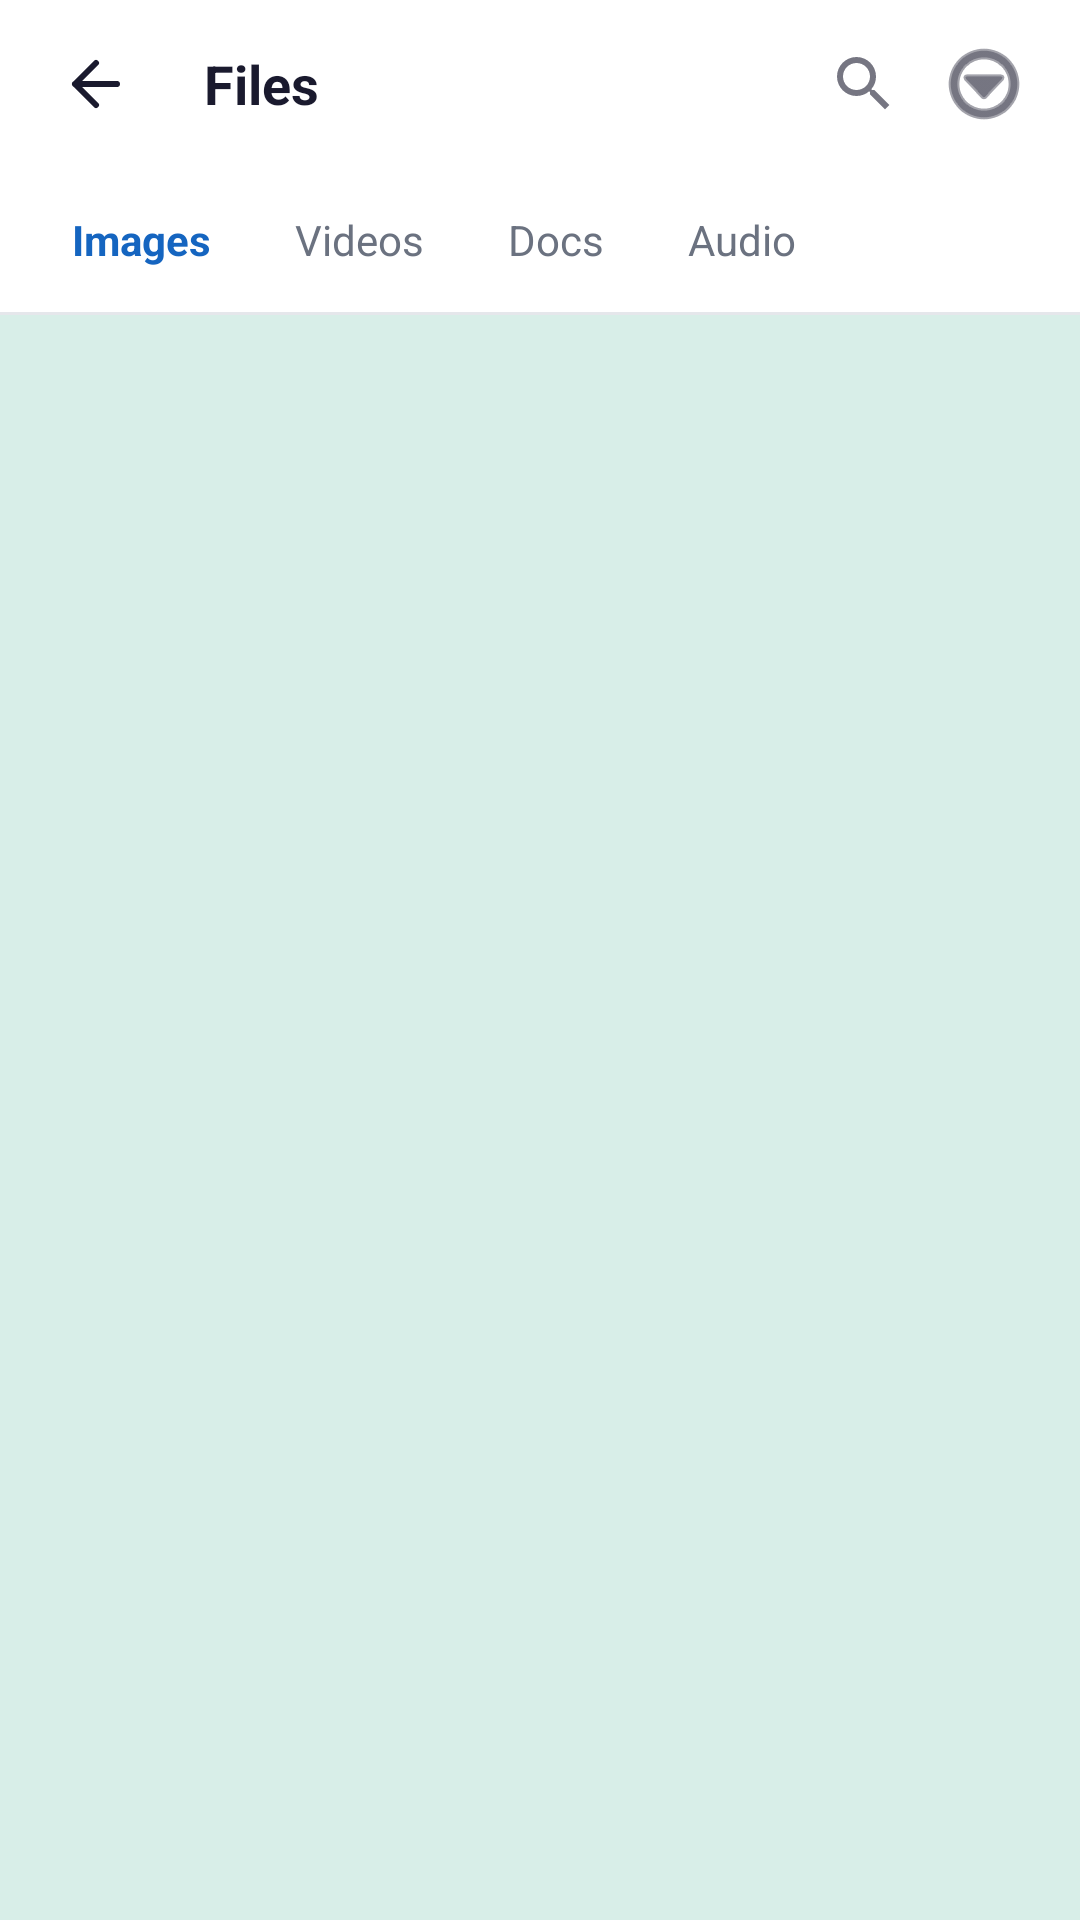

Icons on this 1080px x 1920px Android screen, each with the point to tap as [x,y]:
Back: [96,84]
More: [984,84]
Search: [863,83]
